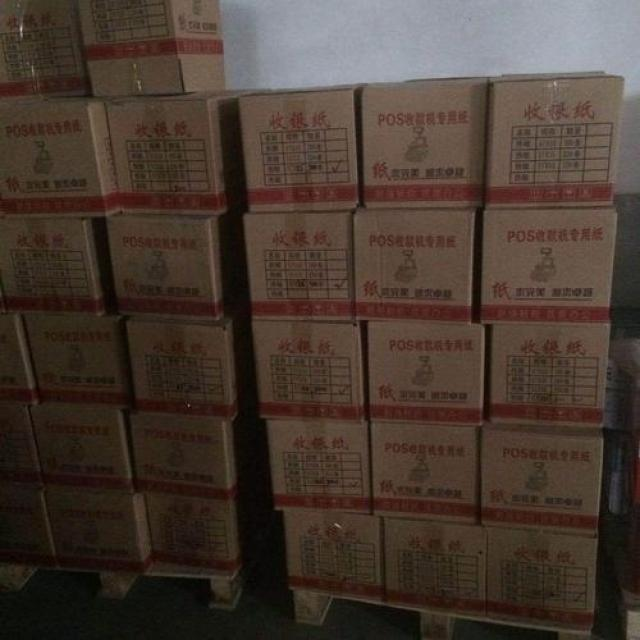box: (486, 69, 623, 209), (364, 77, 490, 209), (108, 93, 239, 216), (481, 209, 614, 323), (0, 100, 123, 220), (353, 206, 476, 325), (239, 90, 358, 211), (105, 211, 227, 323), (483, 426, 604, 535), (492, 321, 612, 428), (243, 211, 356, 323), (367, 321, 483, 429), (252, 319, 366, 425), (127, 317, 239, 420), (486, 527, 596, 628), (371, 424, 480, 524), (0, 219, 108, 315), (384, 520, 488, 618), (24, 315, 133, 407), (265, 420, 370, 515), (131, 413, 238, 500), (29, 406, 134, 492), (42, 490, 154, 570), (283, 512, 384, 600), (145, 493, 241, 575), (0, 486, 59, 567), (0, 317, 40, 404), (0, 402, 40, 483)
